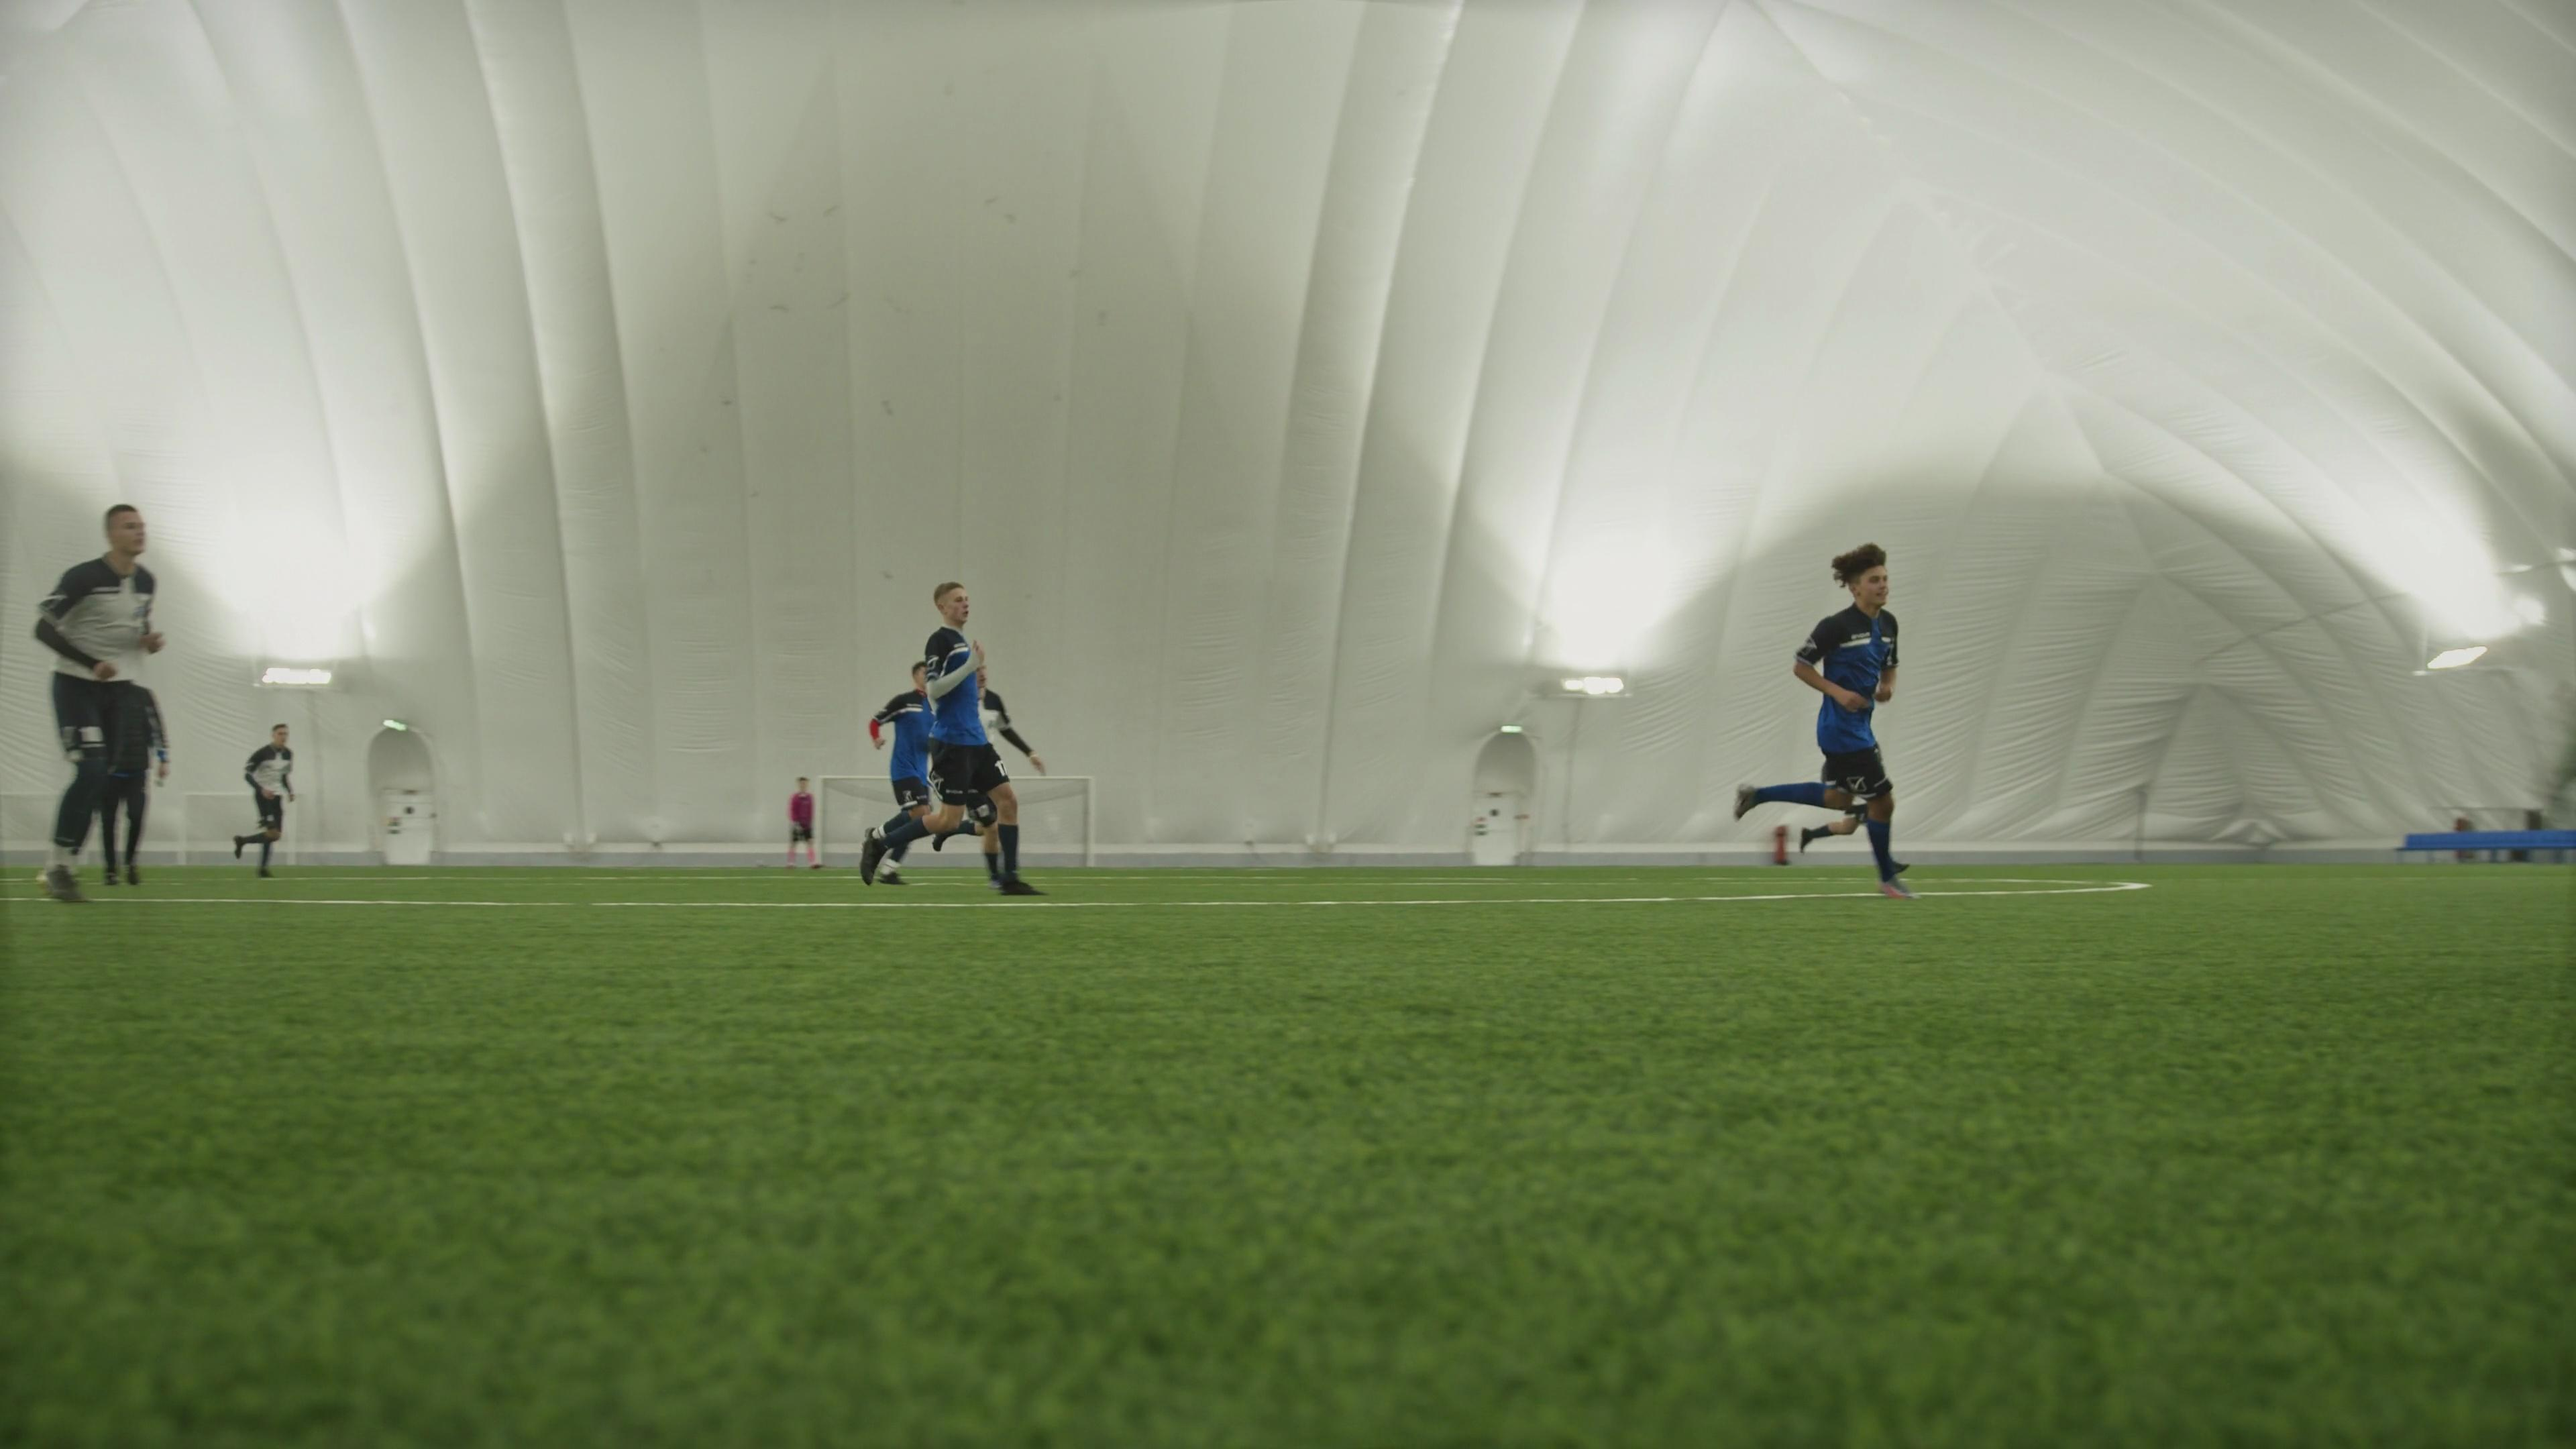other: (104, 671, 170, 881)
team1: (1737, 543, 1907, 895), (860, 582, 1042, 899), (870, 655, 938, 881)
team1gk: (787, 777, 819, 867)
team2: (34, 501, 168, 897), (237, 720, 299, 876)
